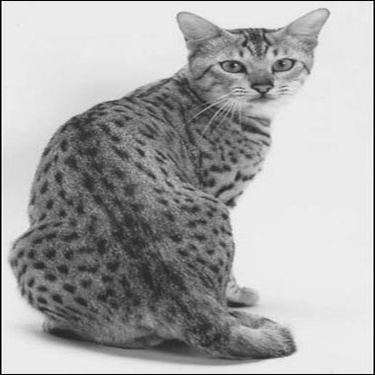cat: (7, 1, 331, 365)
